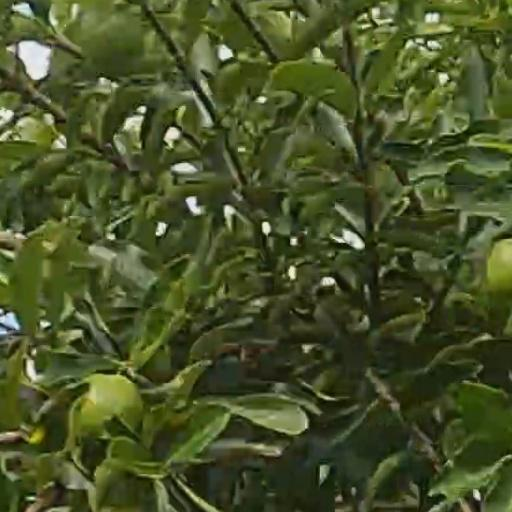acerola: (87, 375, 142, 433), (489, 239, 512, 295)
